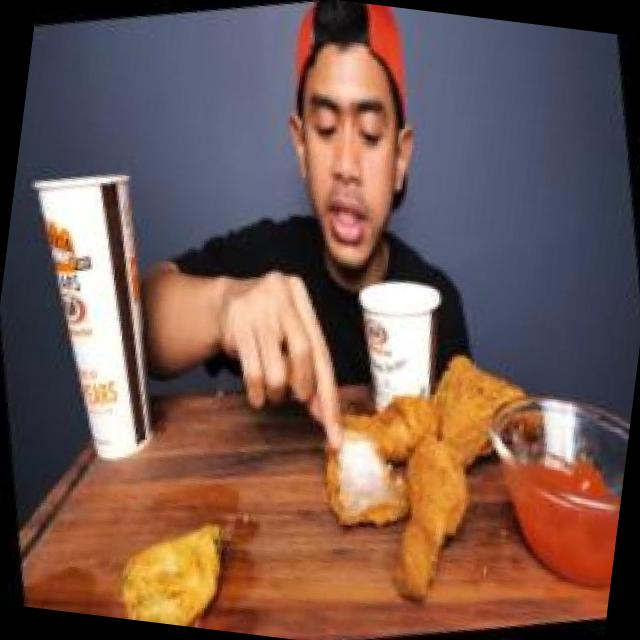AW cola: (0, 132, 201, 494)
crispy corn: (341, 254, 485, 433)
fried chicken: (284, 312, 570, 616)
perkedel: (88, 482, 252, 632)
